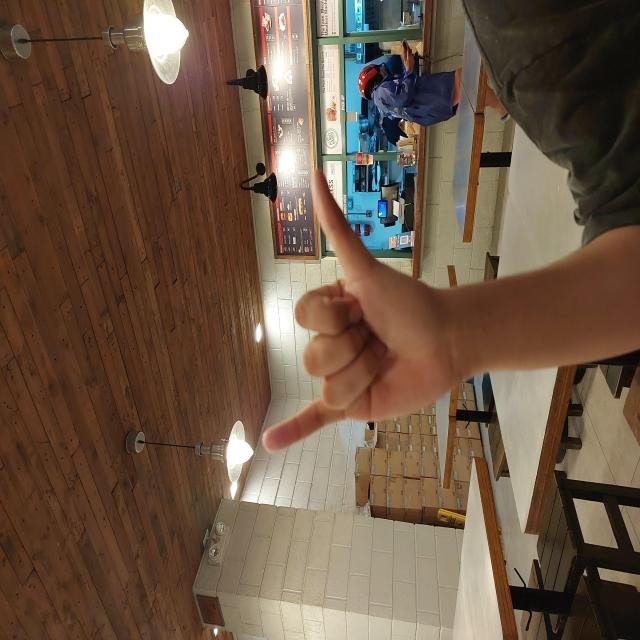Y: (185, 260, 473, 455)
